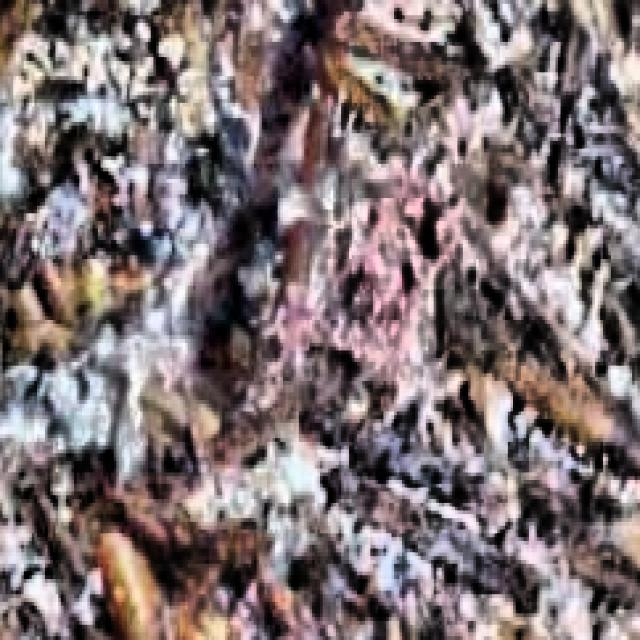Affected: (0, 320, 399, 640), (268, 183, 532, 449)
